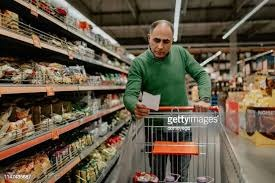with_basket: (131, 103, 230, 183)
without_mask: (149, 22, 173, 59)
